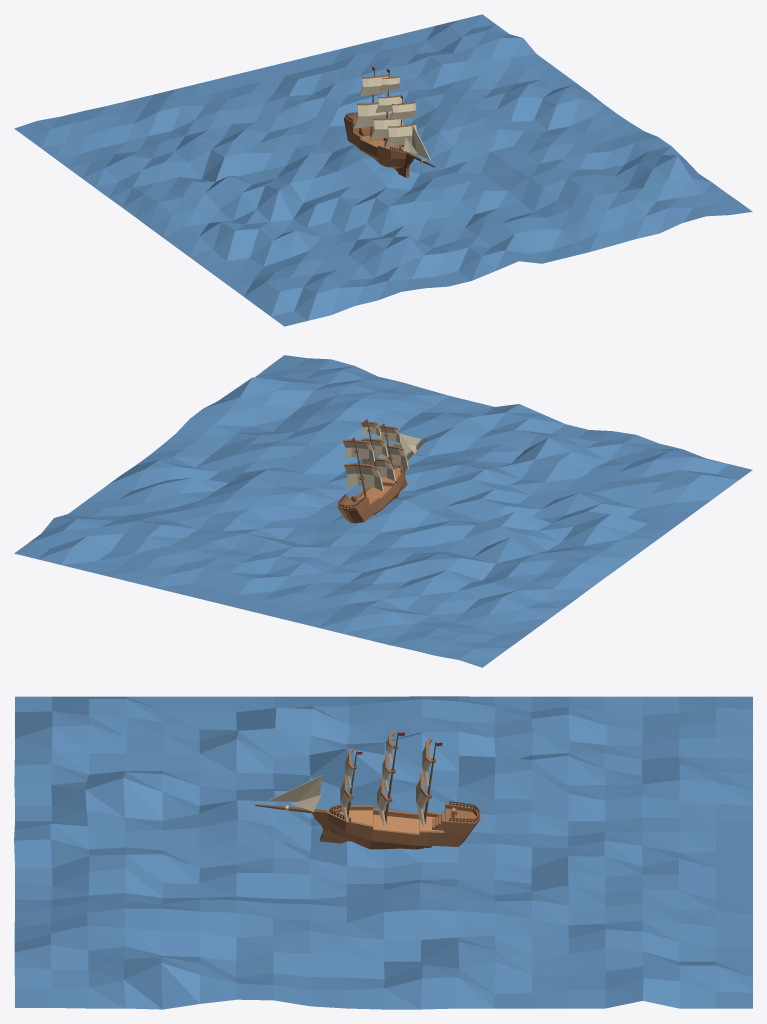
File: ship.glb
3 renders of one model, top to bottom at view 1: azimuth 30°, elevation 25°; view 2: azimuth 150°, elevation 25°; view 3: azimuth 270°, elevation 25°, orthographic. The views are drawn at different scales.
Visible parts, largest first — view 1: Node, BigShip, BackSail, MidleSail, Front Sail; view 2: Node, BigShip, BackSail, MidleSail, Front Sail; view 3: Node, BigShip, BackSail, MidleSail.
Part boxes in pixels (x1,y1,x2,y2): Node: (14, 14, 752, 326); BigShip: (343, 67, 435, 177); BackSail: (353, 74, 391, 128); MidleSail: (370, 76, 403, 139); Front Sail: (385, 101, 416, 147); Node: (14, 355, 752, 667); BigShip: (337, 419, 426, 523); BackSail: (343, 439, 383, 491); MidleSail: (361, 421, 395, 481); Front Sail: (376, 425, 408, 468); Node: (14, 696, 752, 1009); BigShip: (255, 732, 480, 849); BackSail: (416, 738, 432, 826); MidleSail: (377, 731, 394, 825).
Size of the model in its own units: 470 by 94.07 by 470.
